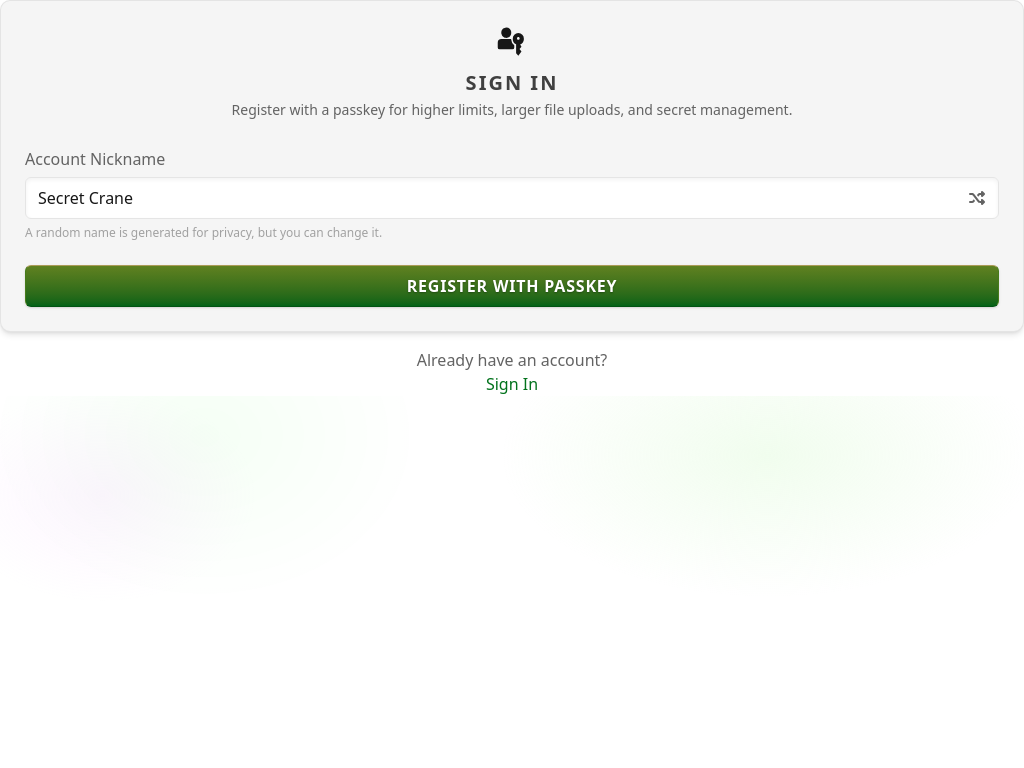
RegisterPage › shows error when registration fails
The image size is (1024, 768).
Type "Bob" into the field labelled "Account Nickname".
click(512, 198); type("Bob")  # box [25,176,999,218]
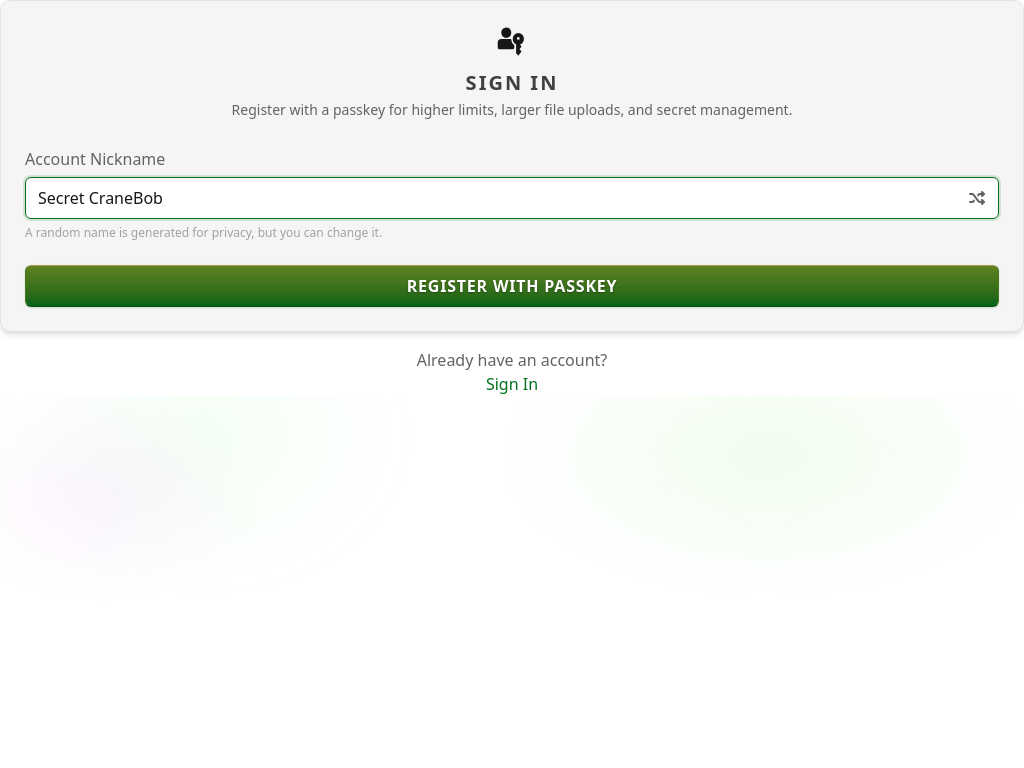
Click the button "Register with Passkey".
click(512, 286)  # box [25,264,999,306]
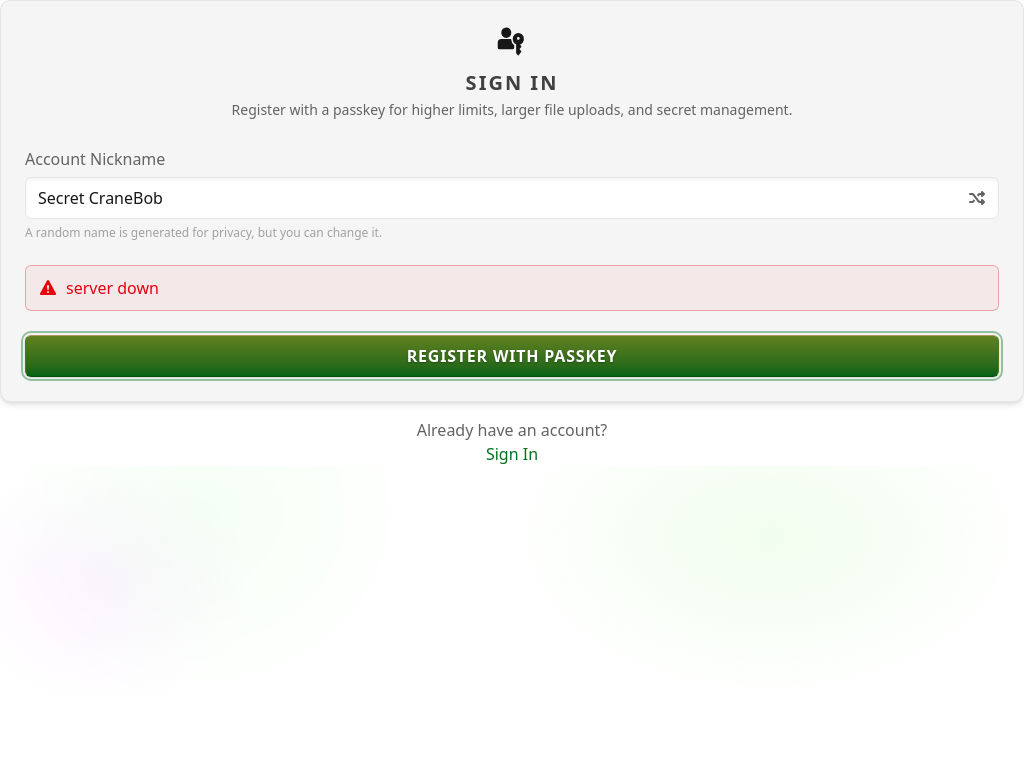
Check: the message reads "server down", box [66,276,159,298]
